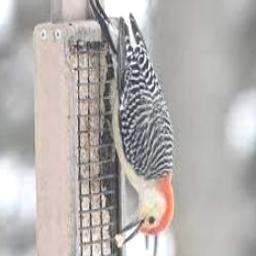Woodpecker: (86, 0, 174, 246)
